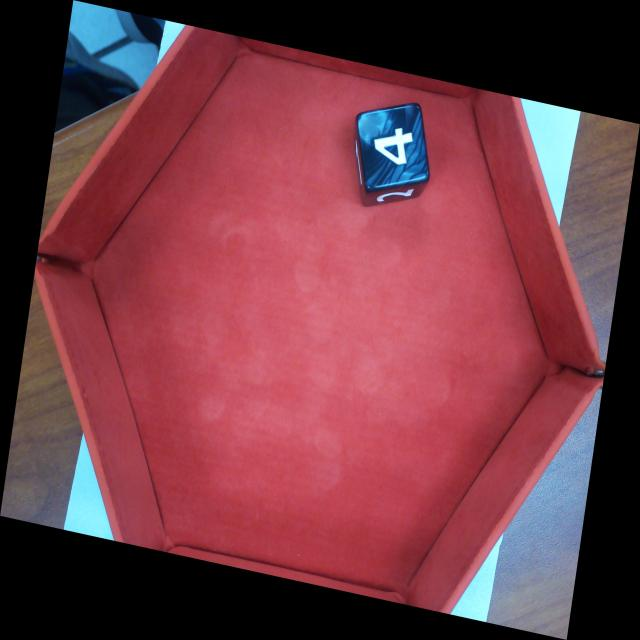dice: (358, 104, 428, 186)
